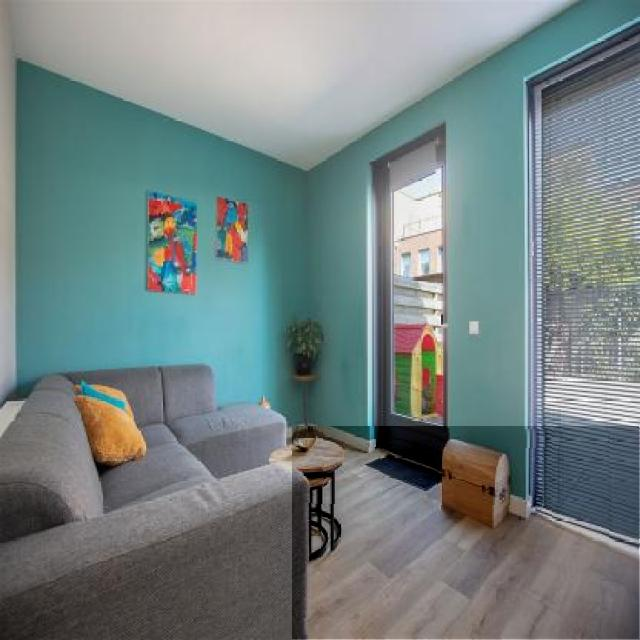floor: (292, 427, 640, 639)
